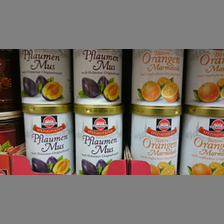jam: (130, 105, 182, 176), (23, 104, 74, 174), (75, 105, 123, 175), (131, 50, 186, 108), (179, 105, 224, 175), (19, 50, 73, 105), (73, 50, 126, 106), (186, 50, 224, 107)
